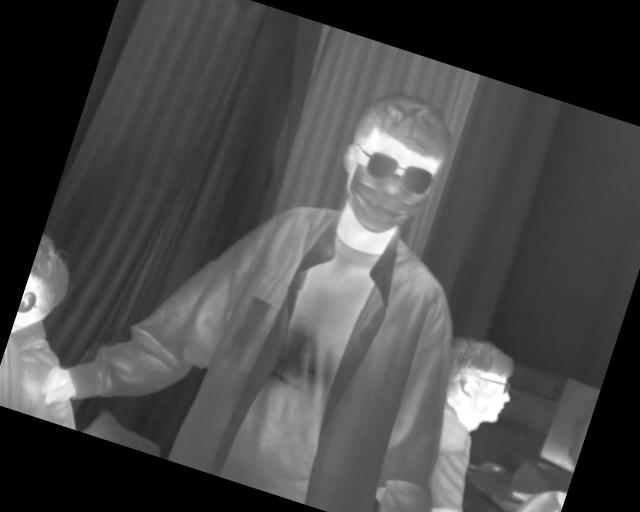face: (323, 80, 467, 250)
